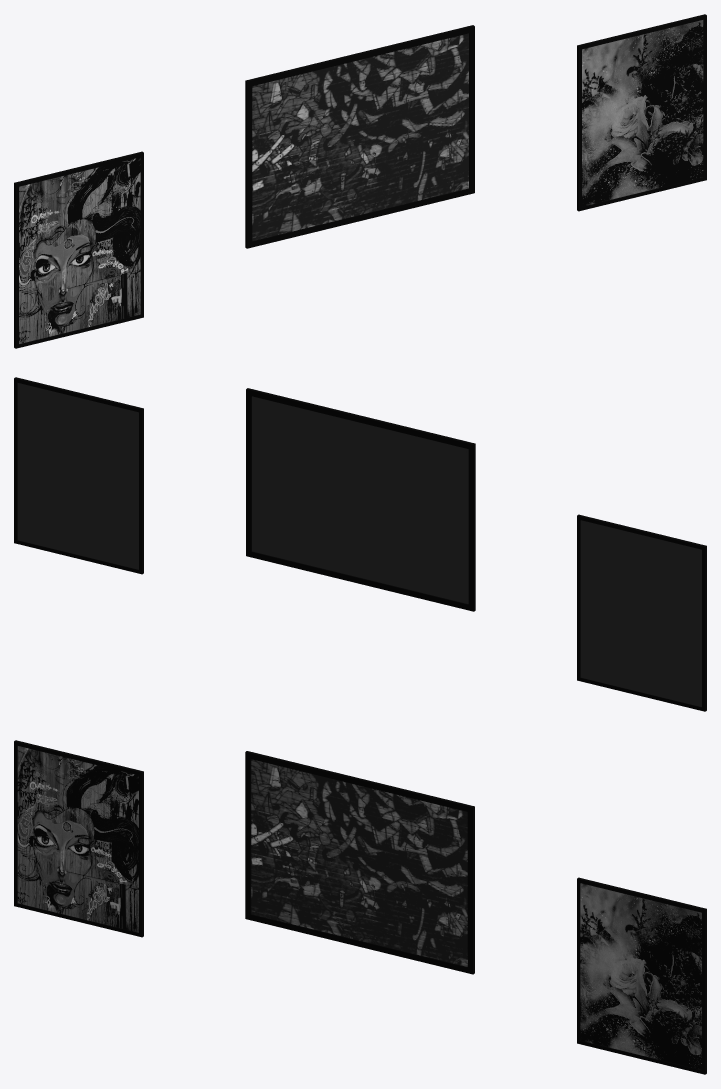
File: 3cardes.glb
3 views of the same model, one above another, from view 1: azimuth 30°, elevation 25°; view 2: azimuth 150°, elevation 25°; view 3: azimuth 330°, elevation 25° (orthographic).
Visible parts, largest first — view 1: Frame_Middle_Frames_Version_04_0, Frame_Left_Frames_Version_04_0, Frame_Right_Frames_Version_04_0; view 2: Frame_Middle_Frames_Version_04_0, Frame_Left_Frames_Version_04_0, Frame_Right_Frames_Version_04_0; view 3: Frame_Middle_Frames_Version_04_0, Frame_Left_Frames_Version_04_0, Frame_Right_Frames_Version_04_0.
Boxes of the visible parts, left/top/right/bottom form: Frame_Middle_Frames_Version_04_0: left=245, top=25, right=474, bottom=248; Frame_Left_Frames_Version_04_0: left=14, top=151, right=143, bottom=348; Frame_Right_Frames_Version_04_0: left=577, top=14, right=706, bottom=211; Frame_Middle_Frames_Version_04_0: left=246, top=388, right=475, bottom=611; Frame_Left_Frames_Version_04_0: left=577, top=514, right=706, bottom=711; Frame_Right_Frames_Version_04_0: left=14, top=377, right=143, bottom=574; Frame_Middle_Frames_Version_04_0: left=245, top=751, right=474, bottom=974; Frame_Left_Frames_Version_04_0: left=14, top=740, right=143, bottom=937; Frame_Right_Frames_Version_04_0: left=577, top=877, right=706, bottom=1074.
Size of the model in its own units: 81.95 by 23.88 by 0.3456.
1 material, 1 textured.
